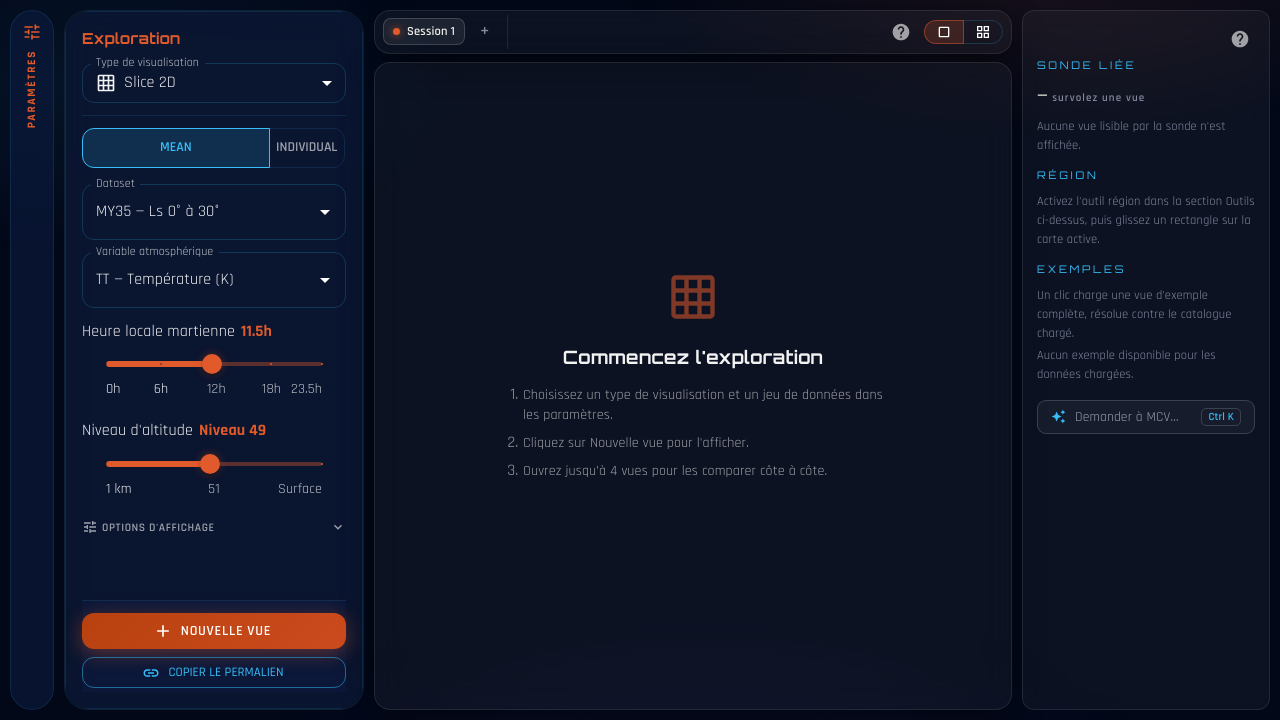
Test: visite guidee de la console › se rejoue a la demande
Expected: the button "Nouvelle vue" is enabled, [82,613,346,649]
Step 1. Click the button named "Visite guidée" → (901, 32), box [886,17,916,47]
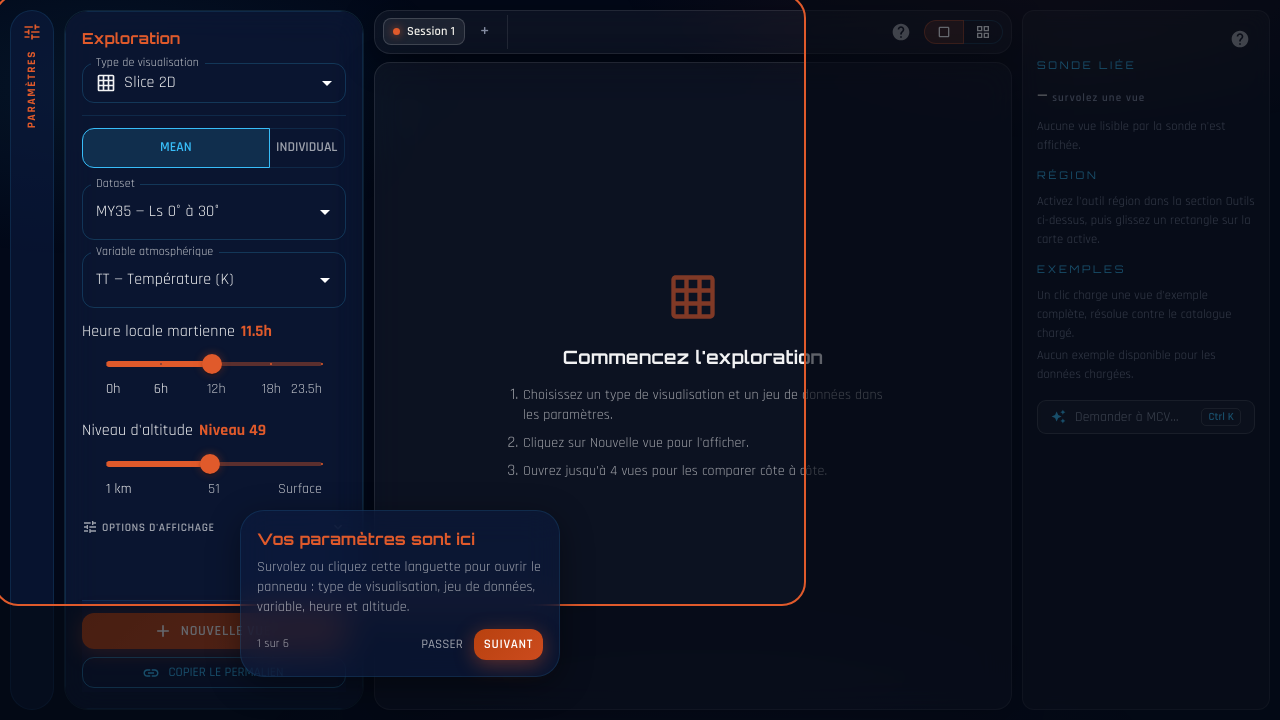
Expected: the text "Vos paramètres sont ici" is shown, [257,529,475,549]
